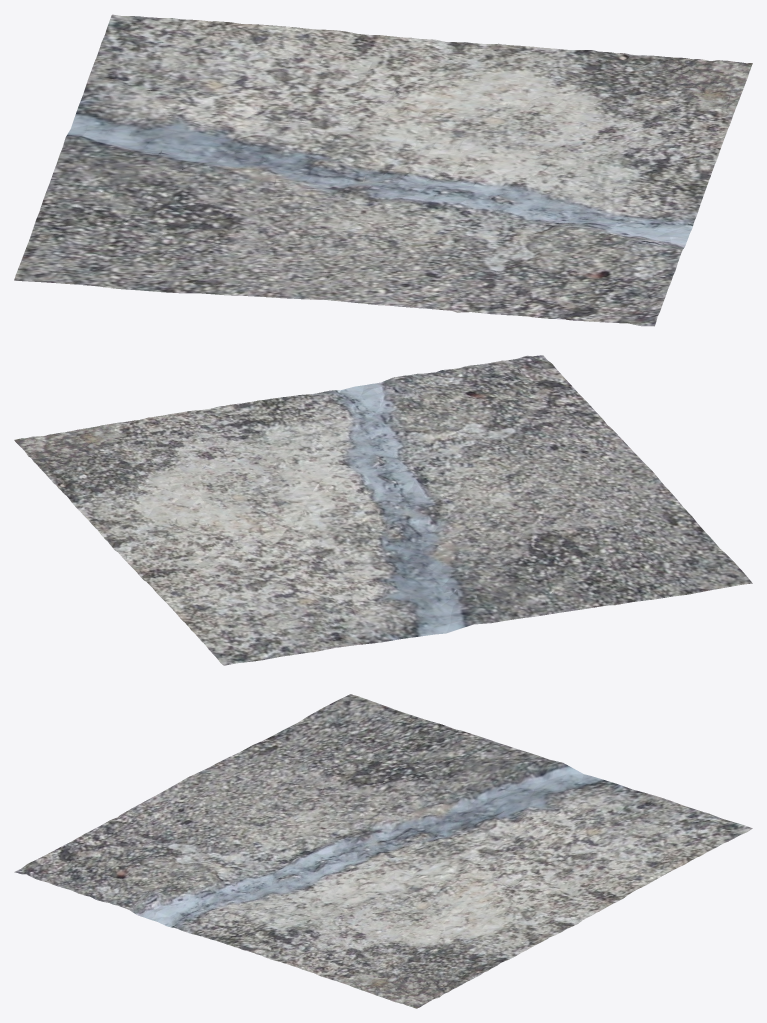
The model's file is tile_0_3.obj.
3 renders of one model, top to bottom at view 1: azimuth 30°, elevation 25°; view 2: azimuth 150°, elevation 25°; view 3: azimuth 270°, elevation 25°, orthographic. The views are drawn at different scales.
Visible parts, largest first — view 1: texture_0; view 2: texture_0; view 3: texture_0.
Boxes of the visible parts, x1,y1,x2,y2 form: texture_0: (14, 14, 752, 326); texture_0: (14, 355, 752, 665); texture_0: (14, 694, 752, 1008).
Size of the model in its own units: 0.5078 by 0.00692 by 0.5062.
1 material, 1 textured.
